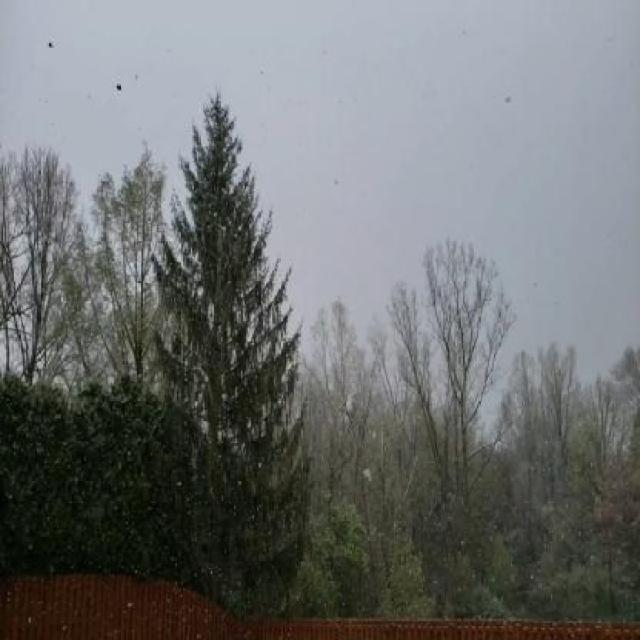bird: (115, 82, 123, 93), (49, 40, 54, 51)
